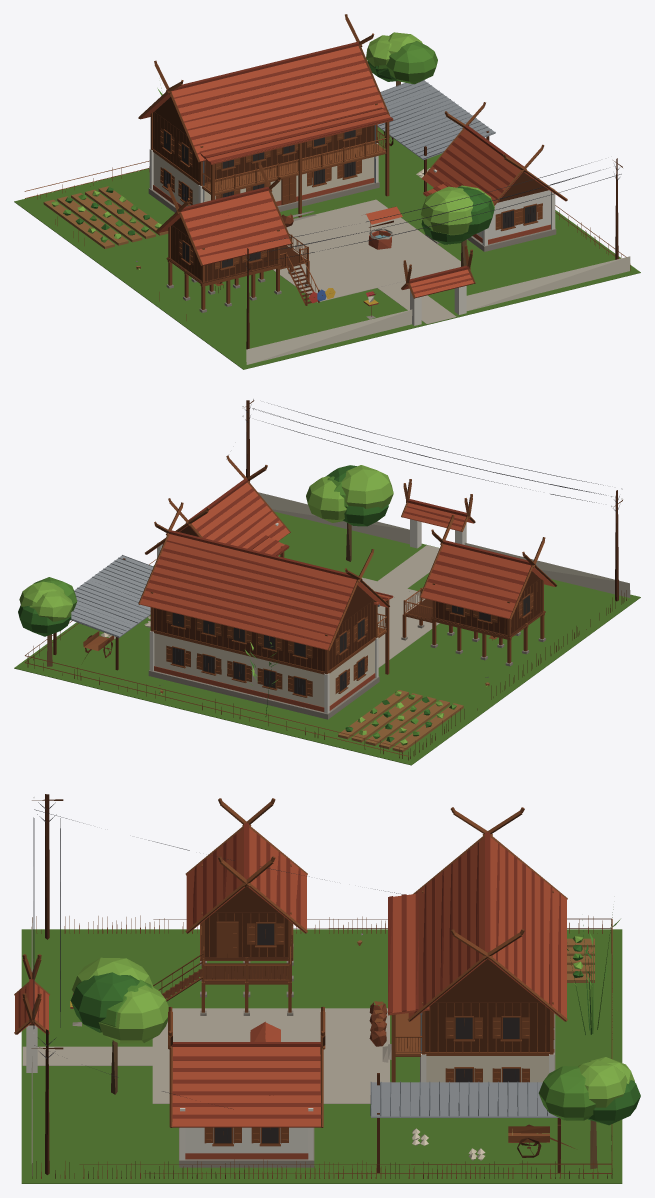
Rendered from home_5.glb.
The picture shows the model from 3 angles, top to bottom: view 1: azimuth 30°, elevation 25°; view 2: azimuth 150°, elevation 25°; view 3: azimuth 270°, elevation 25°; orthographic projection. The views are drawn at different scales.
Visible parts, largest first — view 1: body, windows; view 2: body, windows; view 3: body, windows.
Boxes of the visible parts, x1,y1,x2,y2 form: body: (14,14,640,369); windows: (164,130,536,267); body: (14,399,640,765); windows: (172,595,529,695); body: (14,794,640,1183); windows: (214,923,519,1143).
Bounding box in the file's own units: 32.22 × 11.26 × 33.3.
